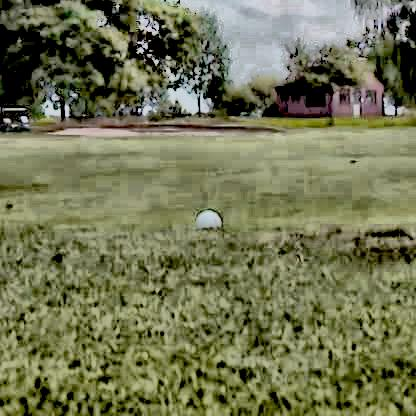golfball: (194, 208, 219, 232)
